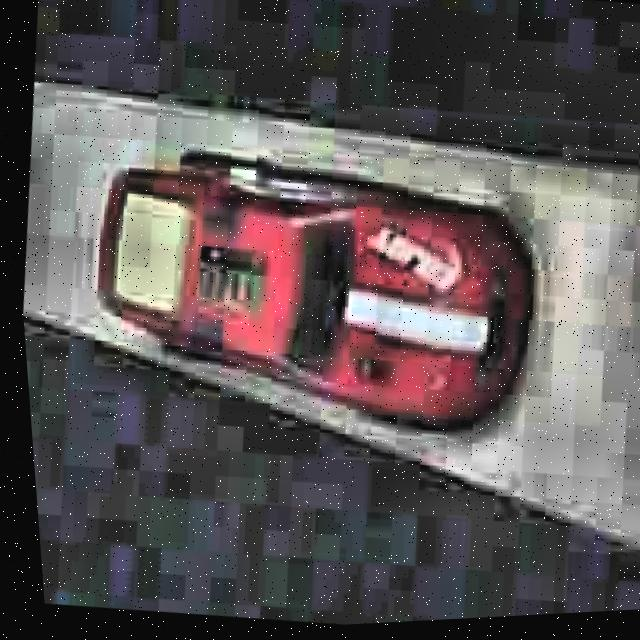car: (70, 116, 560, 461)
